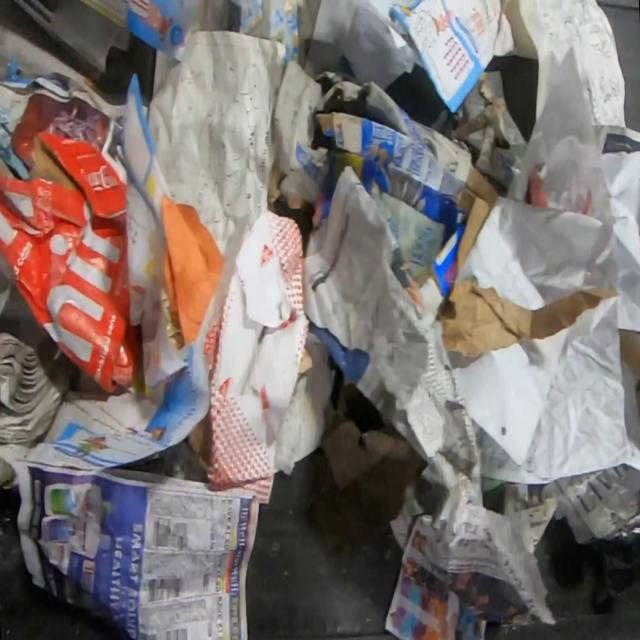cardboard: (294, 68, 500, 332), (0, 131, 144, 396), (188, 209, 310, 504), (430, 68, 530, 201), (10, 93, 66, 170)
